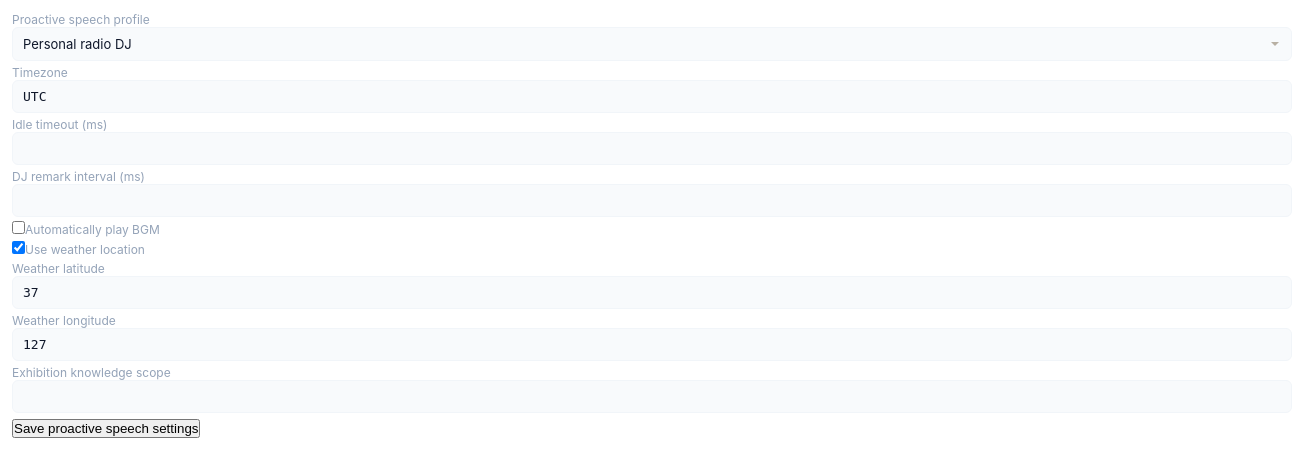
Test: PA-DJ-04 proactive settings UI › shows a fail-closed error when durable persistence fails
Click the button "Save proactive speech settings" at [106, 428], box x1=12 y1=419 x2=200 y2=438
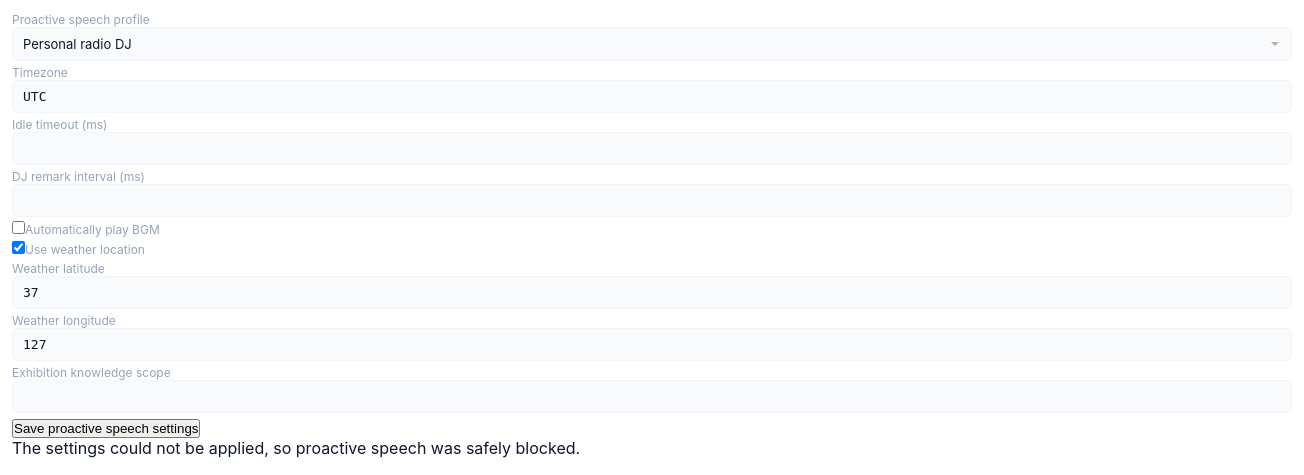
Now the message with test id "proactive-settings-save-error" shows "proactive speech was safely blocked", box x1=12 y1=438 x2=580 y2=458
